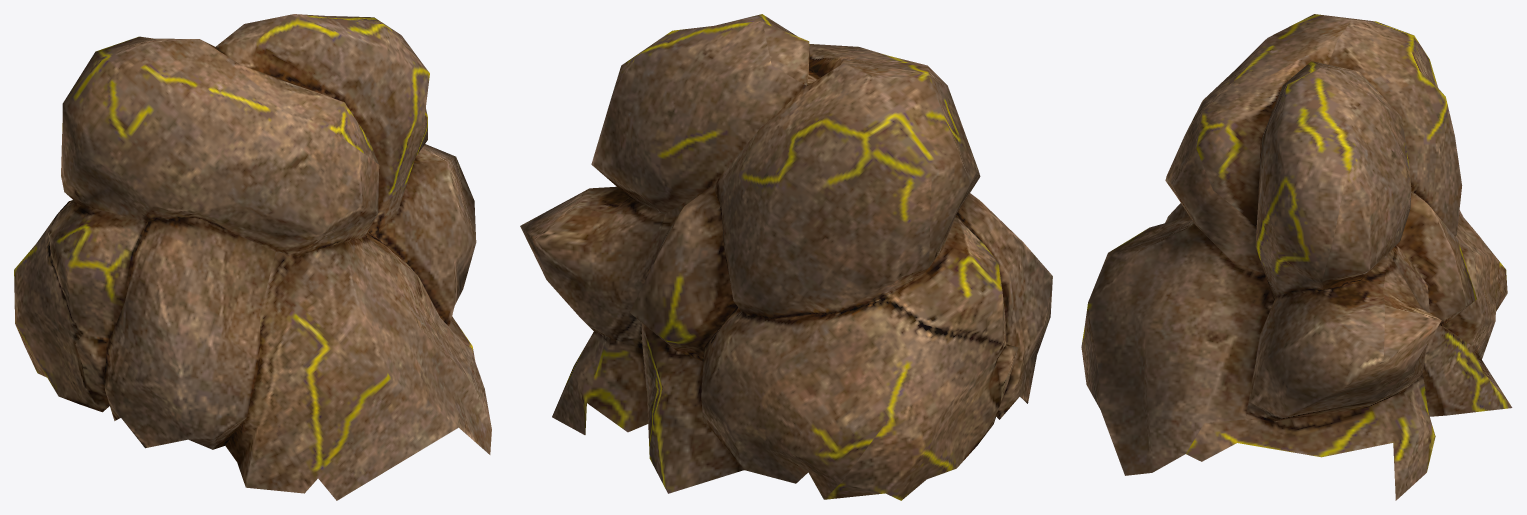
The model's file is mine_metal_savanna_small.glb.
The picture shows the model from 3 angles, left to right: view 1: azimuth 30°, elevation 25°; view 2: azimuth 150°, elevation 25°; view 3: azimuth 270°, elevation 25°; orthographic projection. The views are drawn at different scales.
Visible parts, largest first — view 1: mine_metal_savanna_small_part0; view 2: mine_metal_savanna_small_part0; view 3: mine_metal_savanna_small_part0.
Boxes of the visible parts, left/top/right/bottom form: mine_metal_savanna_small_part0: left=14, top=14, right=491, bottom=500; mine_metal_savanna_small_part0: left=520, top=14, right=1052, bottom=500; mine_metal_savanna_small_part0: left=1081, top=14, right=1512, bottom=500.
Bounding box in the file's own units: 2.15 × 1.89 × 2.02.
Materials: 1 (1 with a texture image).
